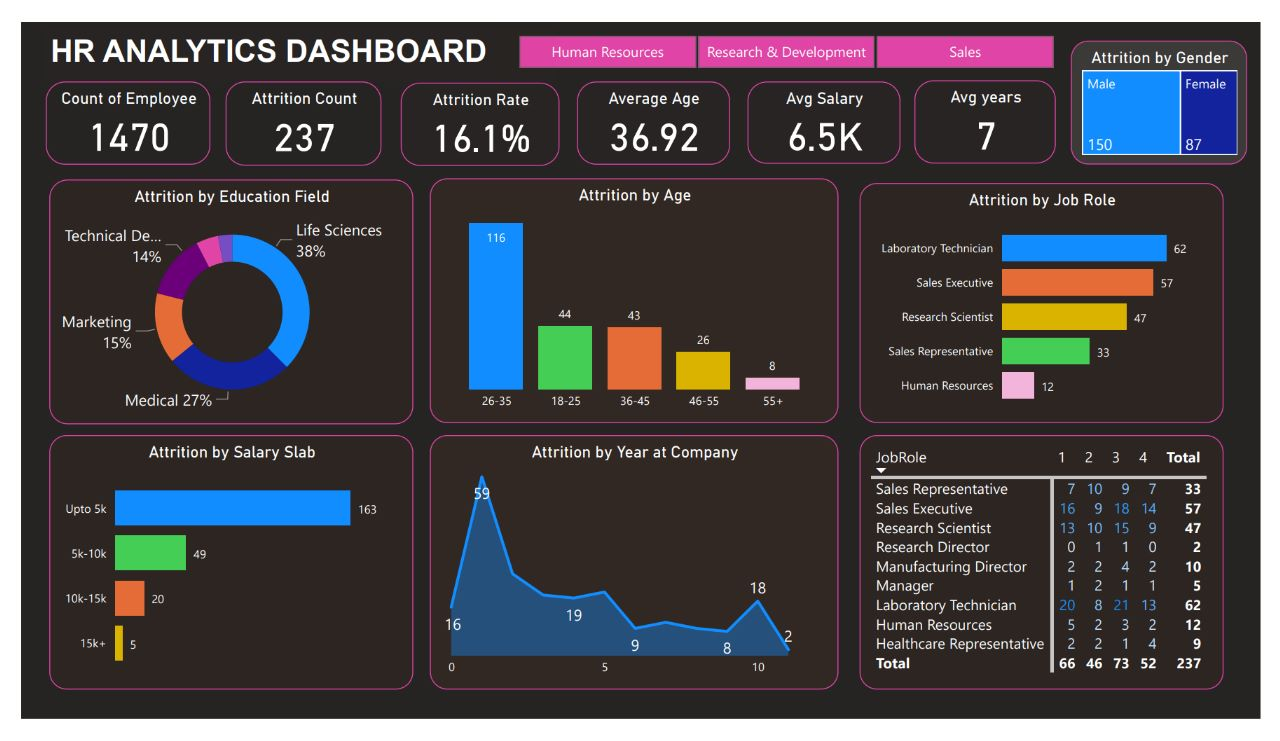

The page's visual inventory and layout, read from the dashboard file:
{"tool":"powerbi","page":{"name":"Page 1","canvas":[1280,720],"ordinal":0},"visuals":[{"type":"card","title":"Count of Employee","fields":{"Values":["CountNonNull(HR_Analytics.EmpID)"]},"box":[25.6,61.5,170.4,85.8],"z":0},{"type":"card","title":"Attrition Count","fields":{"Values":["Sum(HR_Analytics.AttritionCount)"]},"box":[211.4,61.5,161.4,87.1],"z":1000},{"type":"card","title":"Average Age","fields":{"Values":["Avg(HR_Analytics.Age)"]},"box":[574,61.5,157.6,85.8],"z":2000},{"type":"card","title":"Attrition Rate","fields":{"Values":["HR_Analytics.AttritionRate"]},"box":[392.1,62.8,164,85.8],"z":3000},{"type":"card","title":"Avg Salary","fields":{"Values":["Avg(HR_Analytics.MonthlyIncome)"]},"box":[749.5,61.5,157.6,84.6],"z":4000},{"type":"card","title":"Avg years","fields":{"Values":["Avg(HR_Analytics.YearsAtCompany)"]},"box":[922.5,60.2,146.1,85.8],"z":5000},{"type":"donutChart","title":"Attrition by Education Field","fields":{"Category":["HR_Analytics.EducationField"],"Y":["Sum(HR_Analytics.AttritionCount)"]},"box":[29.3,162.2,375.8,252.6],"z":6000},{"type":"columnChart","title":"Attrition by Age","fields":{"Category":["HR_Analytics.AgeGroup"],"Y":["Sum(HR_Analytics.AttritionCount)"]},"box":[422,161.7,422,252.6],"z":7000},{"type":"pivotTable","fields":{"Rows":["HR_Analytics.JobRole"],"Columns":["HR_Analytics.JobSatisfaction"],"Values":["Sum(HR_Analytics.AttritionCount)"]},"box":[865.7,426.7,375.8,263.4],"z":8000},{"type":"barChart","title":"Attrition by Salary Slab","fields":{"Y":["Sum(HR_Analytics.AttritionCount)"],"Category":["HR_Analytics.SalarySlab"]},"box":[29.3,426.7,375.8,263.4],"z":9000},{"type":"treemap","title":"Attrition by Gender","fields":{"Group":["HR_Analytics.Gender"],"Values":["Sum(HR_Analytics.AttritionCount)"]},"box":[1084,19.2,181.9,128.1],"z":10000},{"type":"areaChart","title":"Attrition by Year at Company","fields":{"Y":["Sum(HR_Analytics.AttritionCount)"],"Category":["HR_Analytics.YearsAtCompany"]},"box":[422,426.7,422,263.4],"z":11000},{"type":"barChart","title":"Attrition by Job Role","fields":{"Y":["Sum(HR_Analytics.AttritionCount)"],"Category":["HR_Analytics.JobRole"]},"box":[865.7,166.4,375.8,248],"z":12000},{"type":"slicer","fields":{"Values":["HR_Analytics.Department"]},"box":[488.2,7.7,602.2,47.4],"z":13000},{"type":"textbox","box":[25.6,7.7,526.6,55.1],"z":14000}]}

Visuals, with their boxes in screenshot pixels (x1, y1, x2, y2), scaled from the page's 1280x720 canvas onto the 1280x741 screenshot:
"Count of Employee" card: box=[26, 63, 196, 152]
"Attrition Count" card: box=[211, 63, 373, 153]
"Average Age" card: box=[574, 63, 732, 152]
"Attrition Rate" card: box=[392, 65, 556, 153]
"Avg Salary" card: box=[750, 63, 907, 150]
"Avg years" card: box=[922, 62, 1069, 150]
"Attrition by Education Field" donutChart: box=[29, 167, 405, 427]
"Attrition by Age" columnChart: box=[422, 166, 844, 426]
pivotTable - HR_Analytics.JobRole x HR_Analytics.JobSatisfaction: box=[866, 439, 1242, 710]
"Attrition by Salary Slab" barChart: box=[29, 439, 405, 710]
"Attrition by Gender" treemap: box=[1084, 20, 1266, 152]
"Attrition by Year at Company" areaChart: box=[422, 439, 844, 710]
"Attrition by Job Role" barChart: box=[866, 171, 1242, 426]
slicer - HR_Analytics.Department: box=[488, 8, 1090, 57]
textbox: box=[26, 8, 552, 65]
